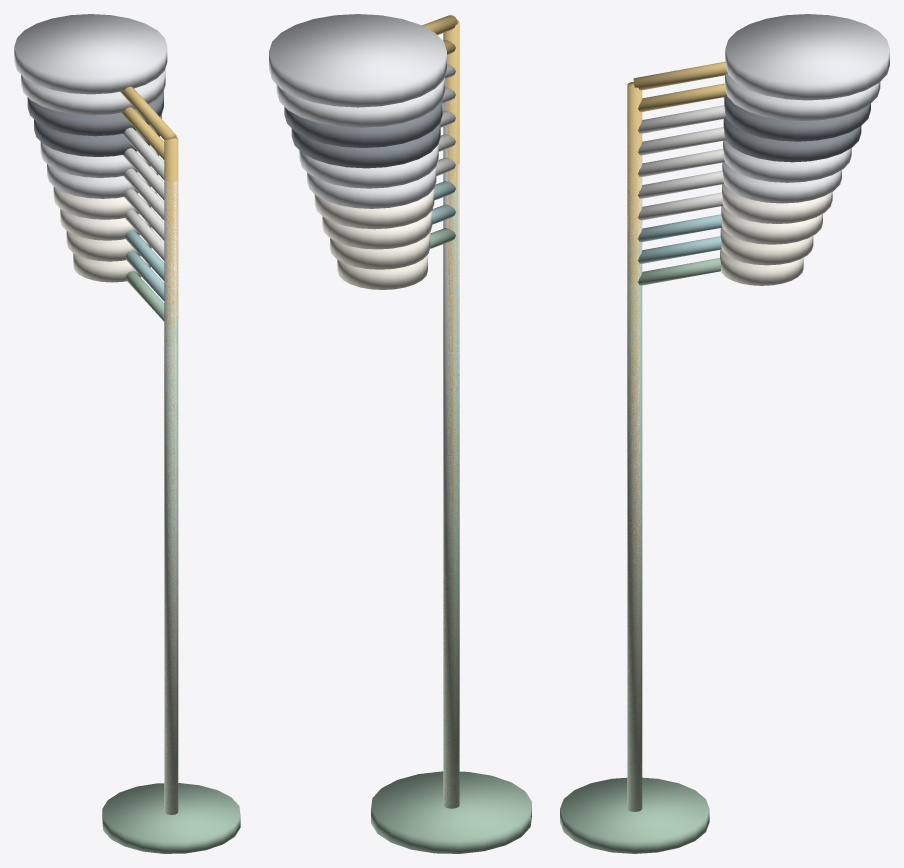
The model's file is Gear16.fbx.
The picture shows the model from 3 angles, left to right: view 1: azimuth 30°, elevation 25°; view 2: azimuth 150°, elevation 25°; view 3: azimuth 270°, elevation 25°; orthographic projection. The views are drawn at different scales.
Parts seen in each view (by area): view 1: Gear16_V1_Sage, Gear16_V10_Platinum, Gear16_V10_Gold, Gear16_V6_Chrome, Gear16_V2_Blue, Gear16_V9_Platinum, Gear16_V4_Chrome, Gear16_V8_Chrome, Gear16_V8_Graphite, Gear16_V7_Graphite, Gear16_V5_Chrome, Gear16_V6_Platinum (+8 smaller); view 2: Gear16_V1_Sage, Gear16_V10_Platinum, Gear16_V10_Gold, Gear16_V9_Platinum, Gear16_V8_Graphite, Gear16_V4_Chrome, Gear16_V7_Graphite, Gear16_V6_Platinum, Gear16_V5_Platinum, Gear16_V4_Linen, Gear16_V5_Chrome, Gear16_V2_Blue (+6 smaller); view 3: Gear16_V1_Sage, Gear16_V10_Platinum, Gear16_V10_Gold, Gear16_V3_Blue, Gear16_V9_Platinum, Gear16_V8_Graphite, Gear16_V2_Blue, Gear16_V7_Graphite, Gear16_V6_Platinum, Gear16_V4_Chrome, Gear16_V5_Platinum, Gear16_V7_Chrome (+8 smaller).
Boxes of the visible parts, left/top/right/bottom form: Gear16_V1_Sage: left=102, top=271, right=240, bottom=853; Gear16_V10_Platinum: left=14, top=14, right=167, bottom=94; Gear16_V10_Gold: left=120, top=86, right=178, bottom=814; Gear16_V6_Chrome: left=123, top=168, right=178, bottom=814; Gear16_V2_Blue: left=125, top=250, right=178, bottom=814; Gear16_V9_Platinum: left=21, top=68, right=165, bottom=115; Gear16_V4_Chrome: left=125, top=209, right=177, bottom=812; Gear16_V8_Chrome: left=122, top=127, right=178, bottom=807; Gear16_V8_Graphite: left=27, top=91, right=163, bottom=136; Gear16_V7_Graphite: left=34, top=114, right=161, bottom=156; Gear16_V5_Chrome: left=124, top=189, right=177, bottom=814; Gear16_V6_Platinum: left=40, top=137, right=160, bottom=177; Gear16_V1_Sage: left=371, top=228, right=531, bottom=853; Gear16_V10_Platinum: left=269, top=14, right=446, bottom=107; Gear16_V10_Gold: left=422, top=15, right=459, bottom=808; Gear16_V9_Platinum: left=276, top=77, right=444, bottom=127; Gear16_V8_Graphite: left=284, top=100, right=442, bottom=147; Gear16_V4_Chrome: left=436, top=157, right=459, bottom=802; Gear16_V7_Graphite: left=291, top=122, right=440, bottom=168; Gear16_V6_Platinum: left=299, top=144, right=438, bottom=188; Gear16_V5_Platinum: left=307, top=167, right=436, bottom=208; Gear16_V4_Linen: left=314, top=189, right=434, bottom=229; Gear16_V5_Chrome: left=438, top=134, right=459, bottom=806; Gear16_V2_Blue: left=432, top=204, right=459, bottom=807; Gear16_V1_Sage: left=560, top=258, right=720, bottom=853; Gear16_V10_Platinum: left=725, top=14, right=889, bottom=100; Gear16_V10_Gold: left=627, top=61, right=727, bottom=811; Gear16_V3_Blue: left=627, top=214, right=722, bottom=809; Gear16_V9_Platinum: left=725, top=73, right=880, bottom=120; Gear16_V8_Graphite: left=724, top=96, right=870, bottom=141; Gear16_V2_Blue: left=627, top=236, right=721, bottom=811; Gear16_V7_Graphite: left=723, top=118, right=861, bottom=162; Gear16_V6_Platinum: left=723, top=140, right=851, bottom=182; Gear16_V4_Chrome: left=627, top=192, right=723, bottom=810; Gear16_V5_Platinum: left=722, top=162, right=841, bottom=203; Gear16_V7_Chrome: left=627, top=127, right=725, bottom=809.
Size of the model in its own units: 44 by 228 by 88.24.
